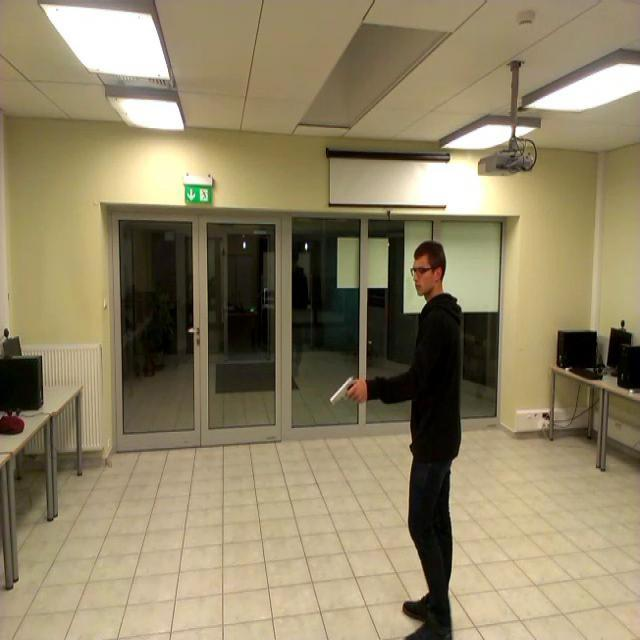weapon: (329, 376, 363, 406)
